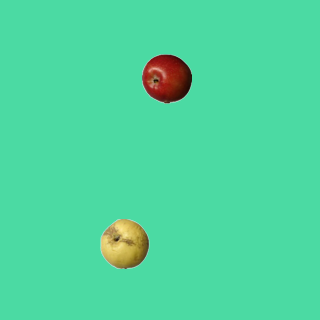Apple Braeburn: (141, 53, 191, 103)
Apple Golden 1: (99, 218, 149, 268)
